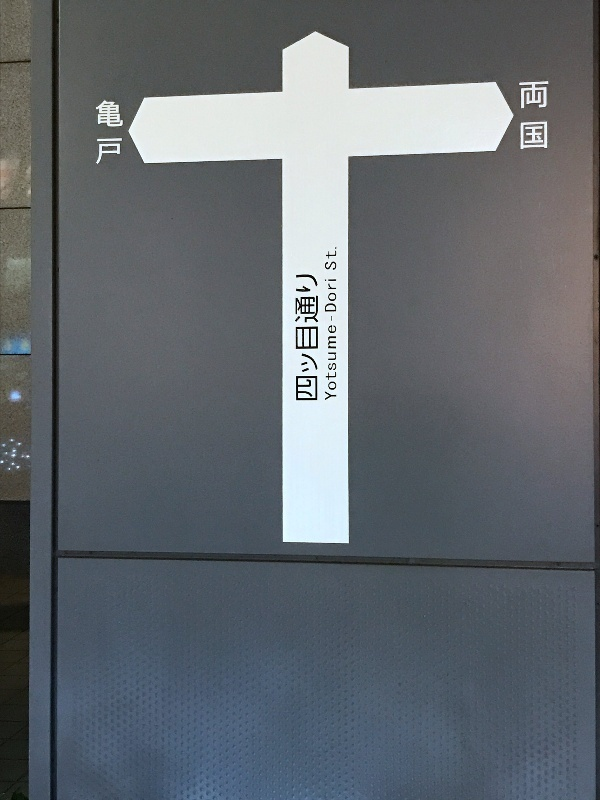text: (305, 272, 319, 401), (325, 280, 336, 401), (529, 81, 544, 151), (296, 272, 304, 401), (97, 99, 112, 166), (113, 99, 123, 166), (519, 81, 528, 151), (545, 81, 549, 151), (325, 248, 336, 271)
